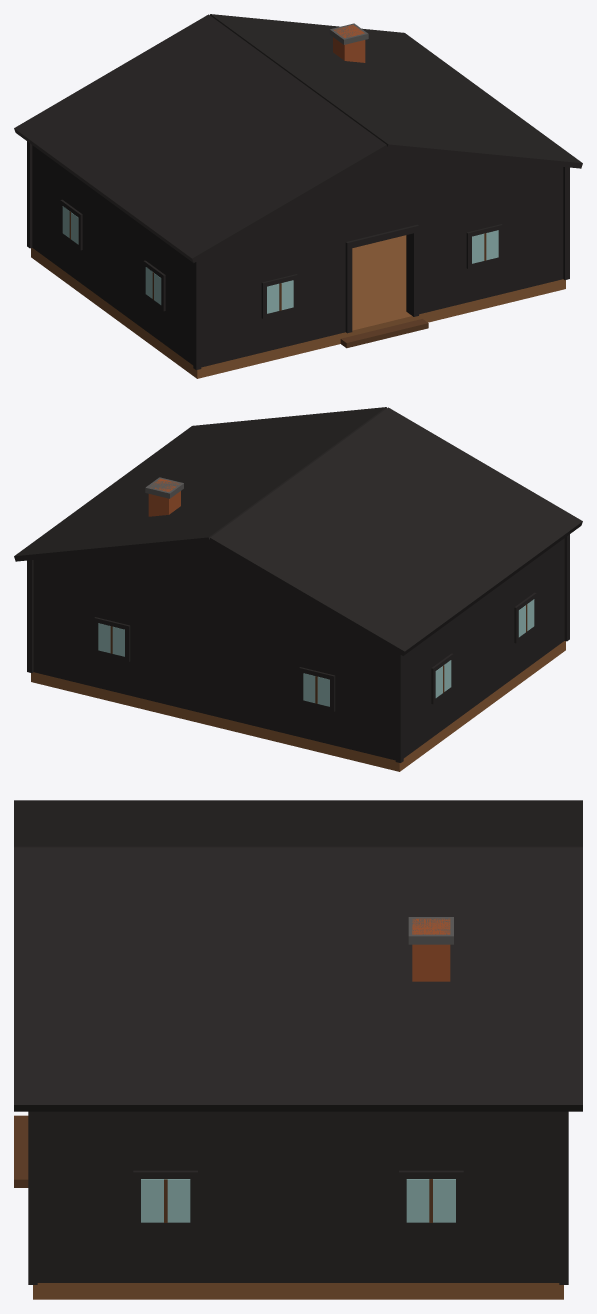
File: HouseLarge.fbx
3 renders of one model, top to bottom at view 1: azimuth 30°, elevation 25°; view 2: azimuth 150°, elevation 25°; view 3: azimuth 270°, elevation 25°, orthographic. The views are drawn at different scales.
Visible parts, largest first — view 1: Roof, Wall, Floor, Trim, Detail; view 2: Roof, Wall, Floor, Trim, Detail; view 3: Roof, Wall, Floor, Detail, Trim.
Part boxes in pixels (<box>): Roof: <box>14,14,582,262</box>; Wall: <box>32,145,563,367</box>; Floor: <box>31,235,565,378</box>; Trim: <box>27,141,569,369</box>; Detail: <box>62,23,498,313</box>; Roof: <box>14,407,582,655</box>; Wall: <box>33,538,564,760</box>; Floor: <box>31,641,565,771</box>; Trim: <box>27,534,569,762</box>; Detail: <box>98,477,534,706</box>; Roof: <box>14,800,582,1111</box>; Wall: <box>37,1111,559,1282</box>; Floor: <box>14,1115,563,1299</box>; Detail: <box>141,917,455,1222</box>; Trim: <box>28,1111,568,1284</box>.
Size of the model in its own units: 38 by 18 by 30.
